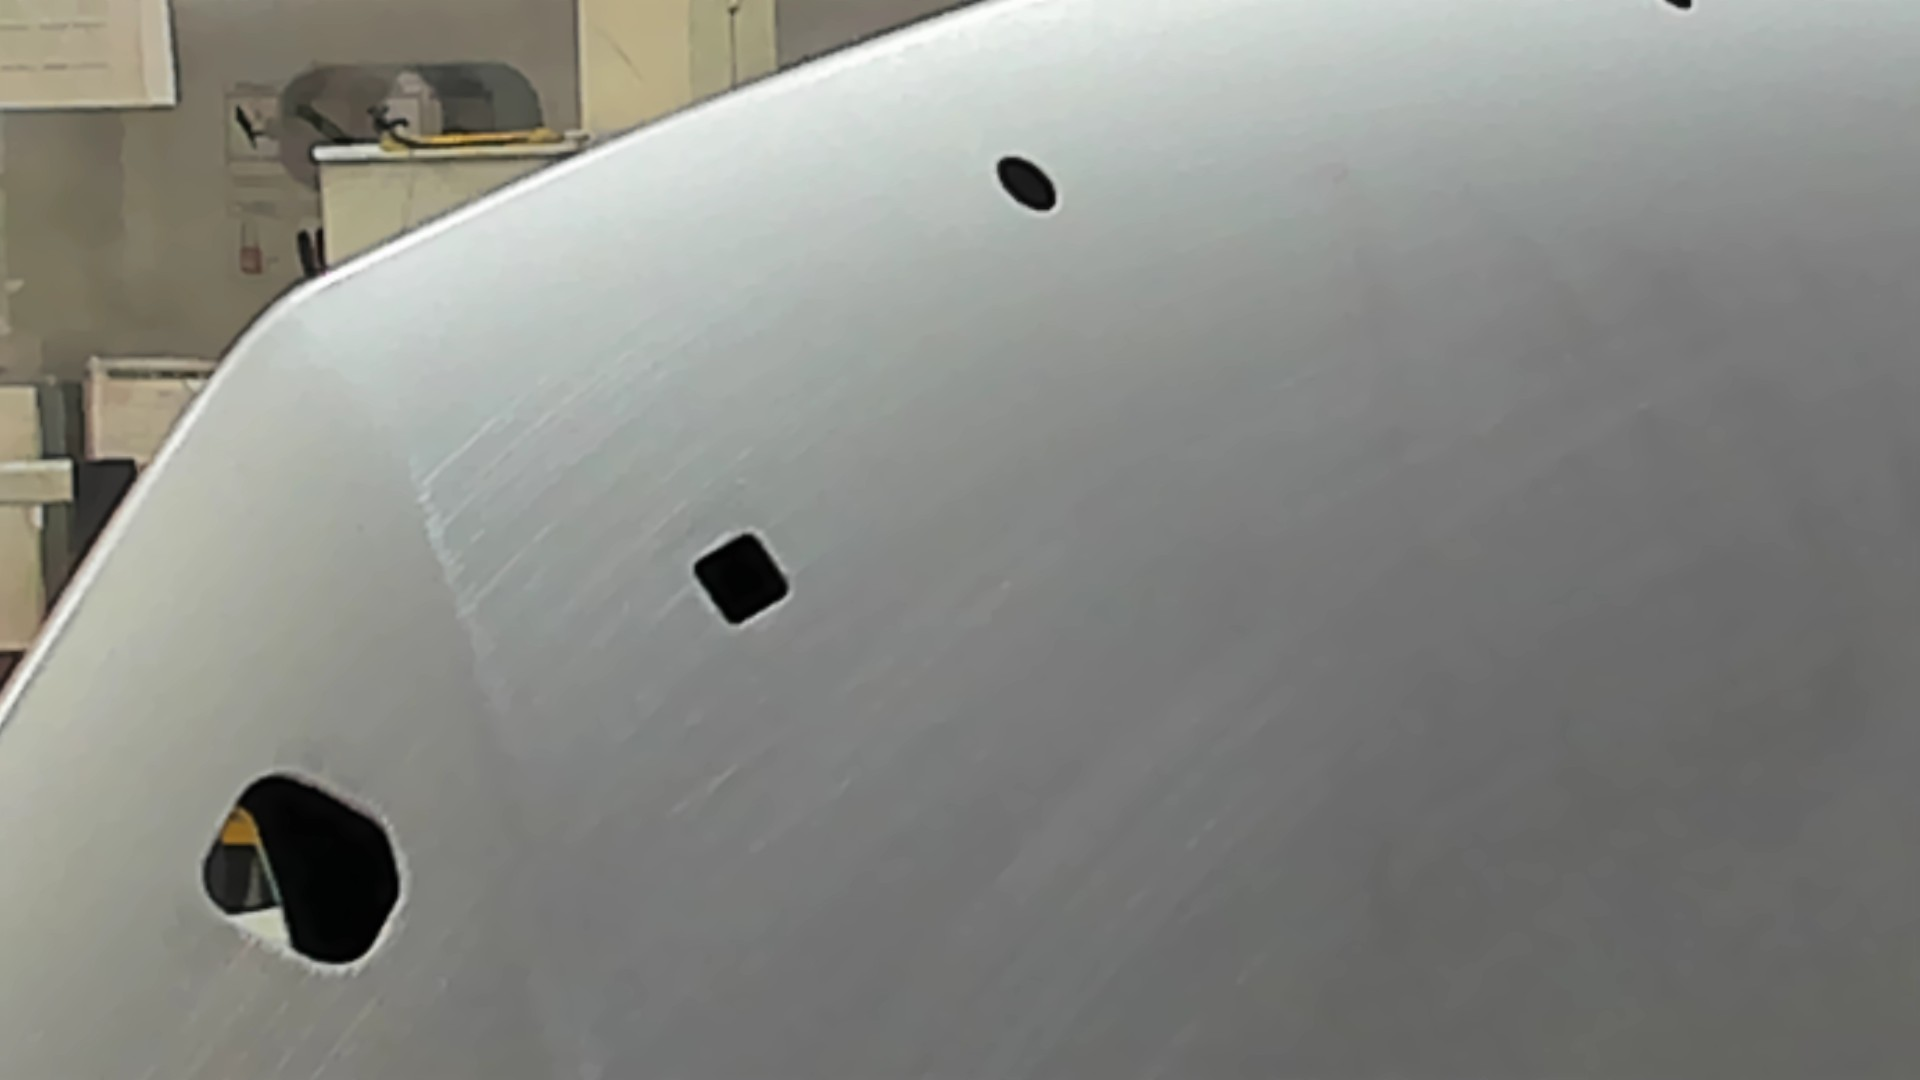Agujero: (691, 527, 794, 632), (994, 153, 1059, 214)
Agujerote: (200, 769, 407, 972)
